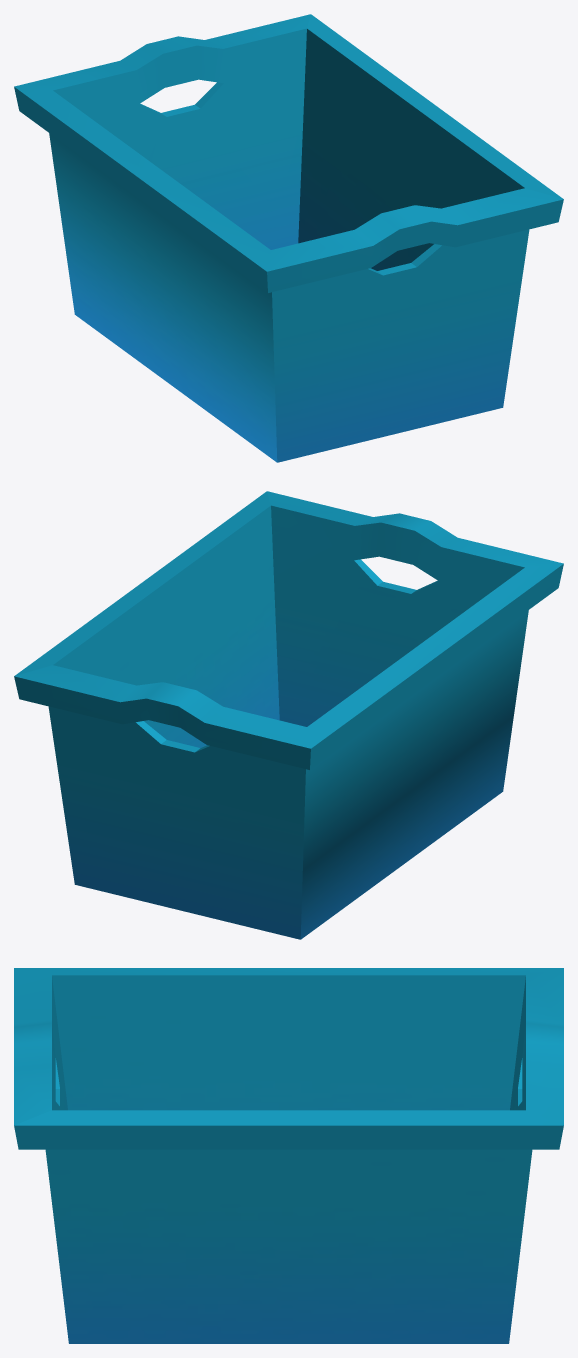
The model's file is SM_Basket_Laundry_1_04.fbx.
3 renders of one model, top to bottom at view 1: azimuth 30°, elevation 25°; view 2: azimuth 150°, elevation 25°; view 3: azimuth 270°, elevation 25°, orthographic. The views are drawn at different scales.
Visible parts, largest first — view 1: SM_Basket_Laundry_1_04; view 2: SM_Basket_Laundry_1_04; view 3: SM_Basket_Laundry_1_04.
Boxes of the visible parts, x1,y1,x2,y2 form: SM_Basket_Laundry_1_04: [14, 14, 563, 462]; SM_Basket_Laundry_1_04: [14, 491, 563, 939]; SM_Basket_Laundry_1_04: [14, 968, 563, 1343].
Bounding box in the file's own units: 37.77 × 28.16 × 55.73.
